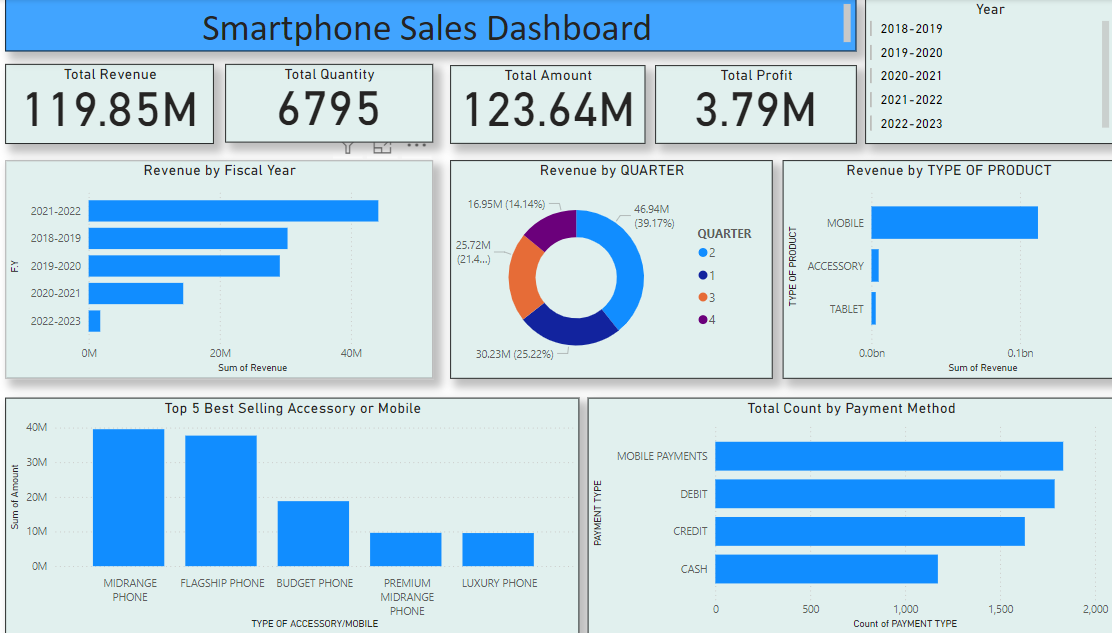

Layout of this report page (visuals, bound fields, positions):
{"tool":"powerbi","page":{"name":"Page 1","canvas":[1280,720],"ordinal":0},"visuals":[{"type":"barChart","title":"Revenue by Fiscal Year","fields":{"Y":["Sum(SMARTPHONE RETAIL OUTLET SALE DATA.Revenue)"],"Category":["SMARTPHONE RETAIL OUTLET SALE DATA.F.Y"]},"box":[12.7,182.5,483.8,247.6],"z":0},{"type":"columnChart","title":"Top 5 Best Selling Accessory or Mobile","fields":{"Category":["SMARTPHONE RETAIL OUTLET SALE DATA.TYPE OF ACCESSORY/MOBILE"],"Y":["Sum(SMARTPHONE RETAIL OUTLET SALE DATA.Amount)"]},"box":[12.7,451.3,649.3,268.8],"z":1000},{"type":"card","title":"Total Revenue","fields":{"Values":["Sum(SMARTPHONE RETAIL OUTLET SALE DATA.Revenue)"]},"box":[12.7,73.6,236.3,90.5],"z":2000},{"type":"card","title":"Total Quantity","fields":{"Values":["Sum(SMARTPHONE RETAIL OUTLET SALE DATA.Quantity)"]},"box":[261.7,73.6,234.8,89.1],"z":3000},{"type":"card","title":"Total Amount","fields":{"Values":["Sum(SMARTPHONE RETAIL OUTLET SALE DATA.Amount)"]},"box":[516.4,75,220.7,89.1],"z":4000},{"type":"card","title":"Total Profit","fields":{"Values":["Sum(SMARTPHONE RETAIL OUTLET SALE DATA.Profit)"]},"box":[748.4,75,227.8,89.1],"z":5000},{"type":"donutChart","title":"Revenue by QUARTER","fields":{"Category":["SMARTPHONE RETAIL OUTLET SALE DATA.QUARTER"],"Y":["Sum(SMARTPHONE RETAIL OUTLET SALE DATA.Revenue)"]},"box":[516.4,182.5,365,247.6],"z":6000},{"type":"barChart","title":"Revenue by TYPE OF PRODUCT","fields":{"Y":["Sum(SMARTPHONE RETAIL OUTLET SALE DATA.Revenue)"],"Category":["SMARTPHONE RETAIL OUTLET SALE DATA.TYPE OF PRODUCT"]},"box":[892.7,182.5,374.9,247.6],"z":7000},{"type":"barChart","title":"Total Count by Payment Method","fields":{"Category":["SMARTPHONE RETAIL OUTLET SALE DATA.PAYMENT TYPE"],"Y":["CountNonNull(SMARTPHONE RETAIL OUTLET SALE DATA.PAYMENT TYPE)"]},"box":[672,451.3,595.6,268.8],"z":8000},{"type":"textbox","box":[12.7,0,963.4,59.4],"z":9000},{"type":"multiRowCard","title":"Year","fields":{"Values":["SMARTPHONE RETAIL OUTLET SALE DATA.F.Y"]},"box":[986,0,281.5,164.1],"z":10000}]}

Visuals, with their boxes in screenshot pixels (x1, y1, x2, y2), scaled from the page's 1280x720 canvas onto the 1112x633 screenshot:
"Revenue by Fiscal Year" barChart: bbox=(11, 160, 431, 378)
"Top 5 Best Selling Accessory or Mobile" columnChart: bbox=(11, 397, 575, 632)
"Total Revenue" card: bbox=(11, 65, 216, 144)
"Total Quantity" card: bbox=(227, 65, 431, 143)
"Total Amount" card: bbox=(449, 66, 640, 144)
"Total Profit" card: bbox=(650, 66, 848, 144)
"Revenue by QUARTER" donutChart: bbox=(449, 160, 766, 378)
"Revenue by TYPE OF PRODUCT" barChart: bbox=(776, 160, 1101, 378)
"Total Count by Payment Method" barChart: bbox=(584, 397, 1101, 632)
textbox: bbox=(11, 0, 848, 52)
"Year" multiRowCard: bbox=(857, 0, 1101, 144)
